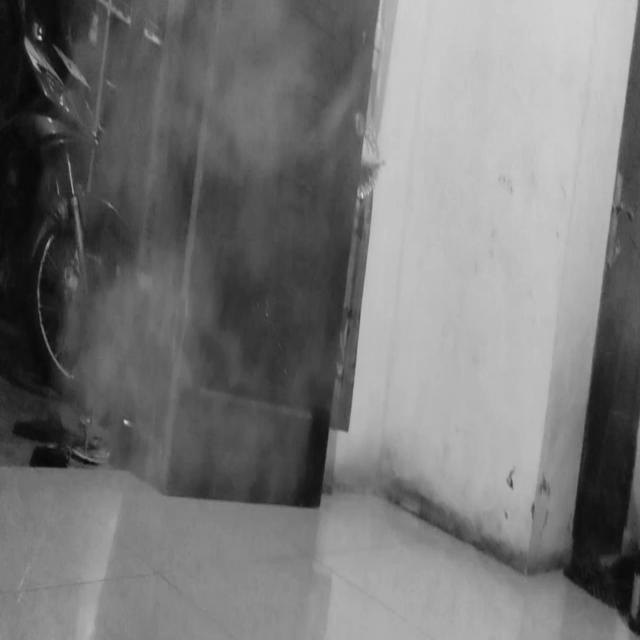fire: (82, 9, 380, 462)
